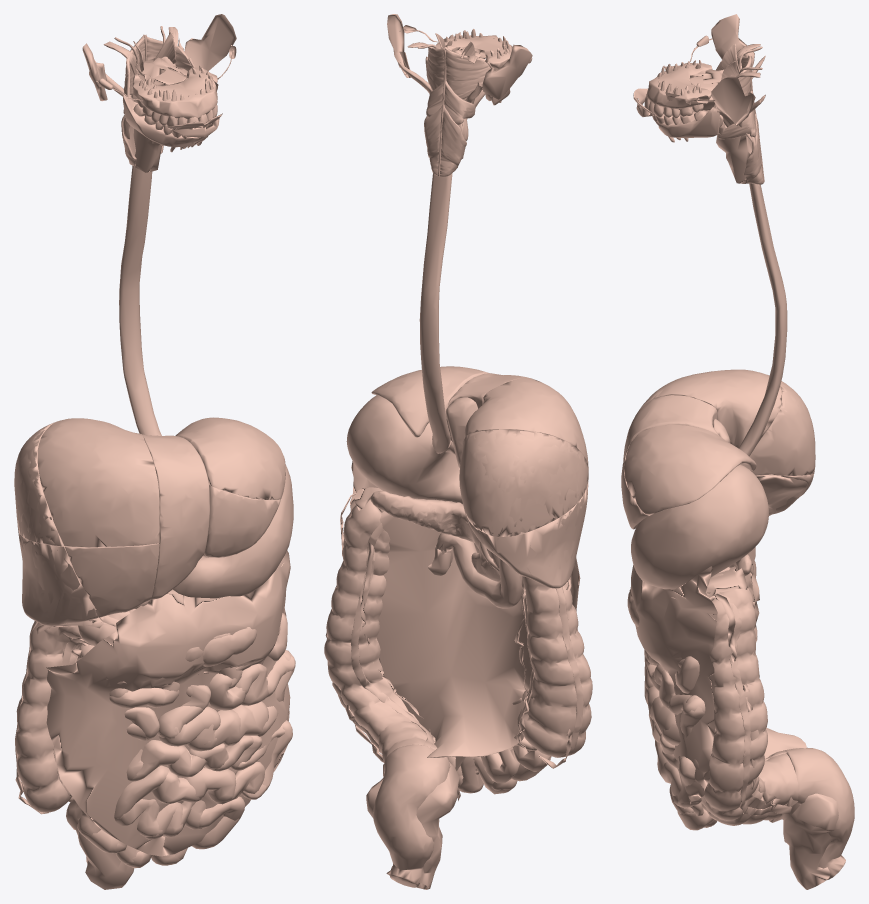
The model's file is digerente.glb.
The picture shows the model from 3 angles, left to right: view 1: azimuth 30°, elevation 25°; view 2: azimuth 150°, elevation 25°; view 3: azimuth 270°, elevation 25°; orthographic projection. The views are drawn at different scales.
Visible parts, largest first — view 1: ZA0152, FJ2824, FJ2820, FJ2566, FJ2818, FJ2563, FJ2564, FJ2821, FJ2409, FJ2819, FJ1252, FJ1858 (+30 smaller); view 2: FJ3398, FJ2567, FJ2566, FJ2564, FJ1858, FJ2571, FJ2823, FJ2563, FJ2824, FJ2409, FJ2818, FJ2573 (+21 smaller); view 3: FJ2567, FJ2564, ZA0152, FJ2818, FJ2824, FJ2571, ZA0164, FJ2563, FJ2823, FJ2820, FJ1252, FJ2570 (+18 smaller).
Boxes of the visible parts, x1,y1,x2,y2 form: ZA0152: [46, 550, 290, 856]; FJ2824: [37, 418, 159, 547]; FJ2820: [142, 434, 209, 599]; FJ2566: [15, 623, 81, 812]; FJ2818: [175, 417, 285, 499]; FJ2563: [119, 166, 161, 435]; FJ2564: [173, 465, 293, 598]; FJ2821: [64, 543, 159, 617]; FJ2409: [18, 529, 94, 625]; FJ2819: [204, 485, 280, 557]; FJ1252: [132, 67, 217, 118]; FJ1858: [14, 421, 63, 546]; FJ3398: [377, 510, 532, 757]; FJ2567: [324, 499, 450, 768]; FJ2566: [519, 576, 592, 757]; FJ2564: [346, 395, 462, 504]; FJ1858: [465, 429, 588, 536]; FJ2571: [373, 744, 449, 887]; FJ2823: [459, 429, 587, 536]; FJ2563: [419, 173, 452, 453]; FJ2824: [464, 377, 588, 465]; FJ2409: [469, 482, 588, 588]; FJ2818: [371, 366, 489, 437]; FJ2573: [435, 533, 523, 608]; FJ2567: [700, 588, 798, 825]; FJ2564: [631, 464, 768, 589]; ZA0152: [630, 565, 717, 808]; FJ2818: [624, 425, 756, 515]; FJ2824: [635, 369, 781, 448]; FJ2571: [783, 747, 854, 879]; ZA0164: [769, 793, 838, 889]; FJ2563: [739, 183, 787, 456]; FJ2823: [749, 375, 815, 475]; FJ2820: [623, 395, 719, 461]; FJ1252: [646, 63, 712, 109]; FJ2570: [629, 589, 800, 815].
Size of the model in its own units: 0.2443 by 0.7604 by 0.191.
